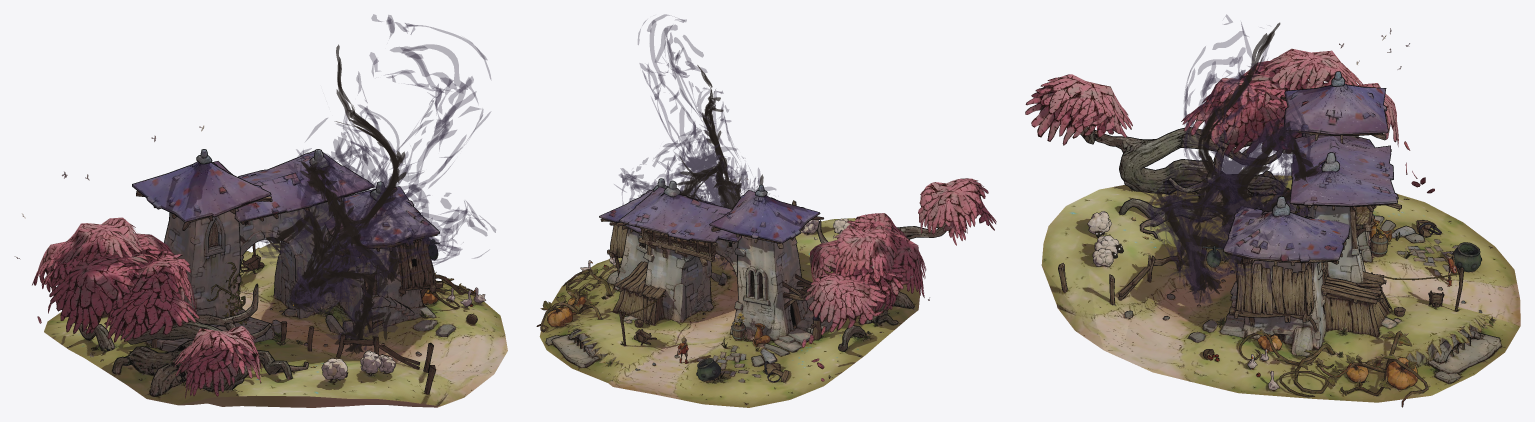
The model's file is ftm.glb.
3 renders of one model, left to right at view 1: azimuth 30°, elevation 25°; view 2: azimuth 150°, elevation 25°; view 3: azimuth 270°, elevation 25°, orthographic. The views are drawn at different scales.
Visible parts, largest first — view 1: ground, shade, leaves, roof, stones, monster, outline, wood, props; view 2: ground, stones, leaves, roof, shade, wood, outline, props, monster; view 3: ground, roof, shade, leaves, wood, stones, outline, monster, props.
Boxes of the visible parts, x1,y1,x2,y2 form: ground: (44,243,507,407); shade: (258,14,495,350); leaves: (32,217,261,398); roof: (75,149,439,396); stones: (145,197,455,355); monster: (262,44,417,354); outline: (74,149,485,394); wood: (102,189,442,394); props: (14,125,485,382); ground: (539,218,919,407); stones: (546,228,832,382); leaves: (801,178,996,381); roof: (599,179,945,351); shade: (614,14,775,274); wood: (601,200,827,382); outline: (536,178,946,382); props: (537,178,929,382); monster: (676,65,769,274); ground: (1041,175,1520,402); roof: (1081,72,1397,261); shade: (1146,14,1328,305); leaves: (1025,48,1434,193); wood: (1058,97,1463,337); stones: (1125,133,1501,383); outline: (1058,71,1500,407); monster: (1156,22,1319,303); props: (1082,28,1496,406).
Size of what is drawn, in the model's own units: 24 by 18.53 by 22.64.
Materials: 10 (6 with a texture image).
